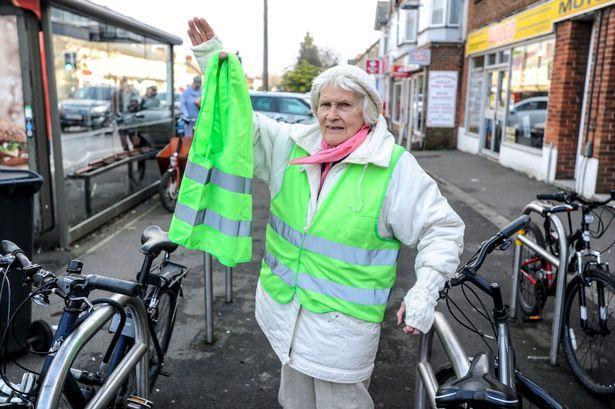Vest: (261, 131, 406, 315)
